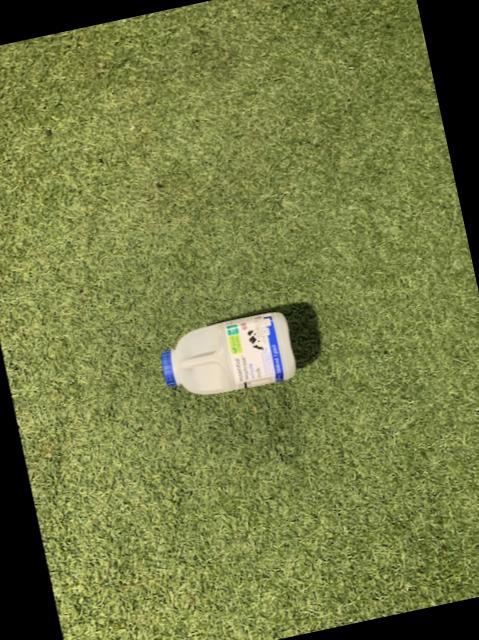plastic: (162, 312, 296, 394)
